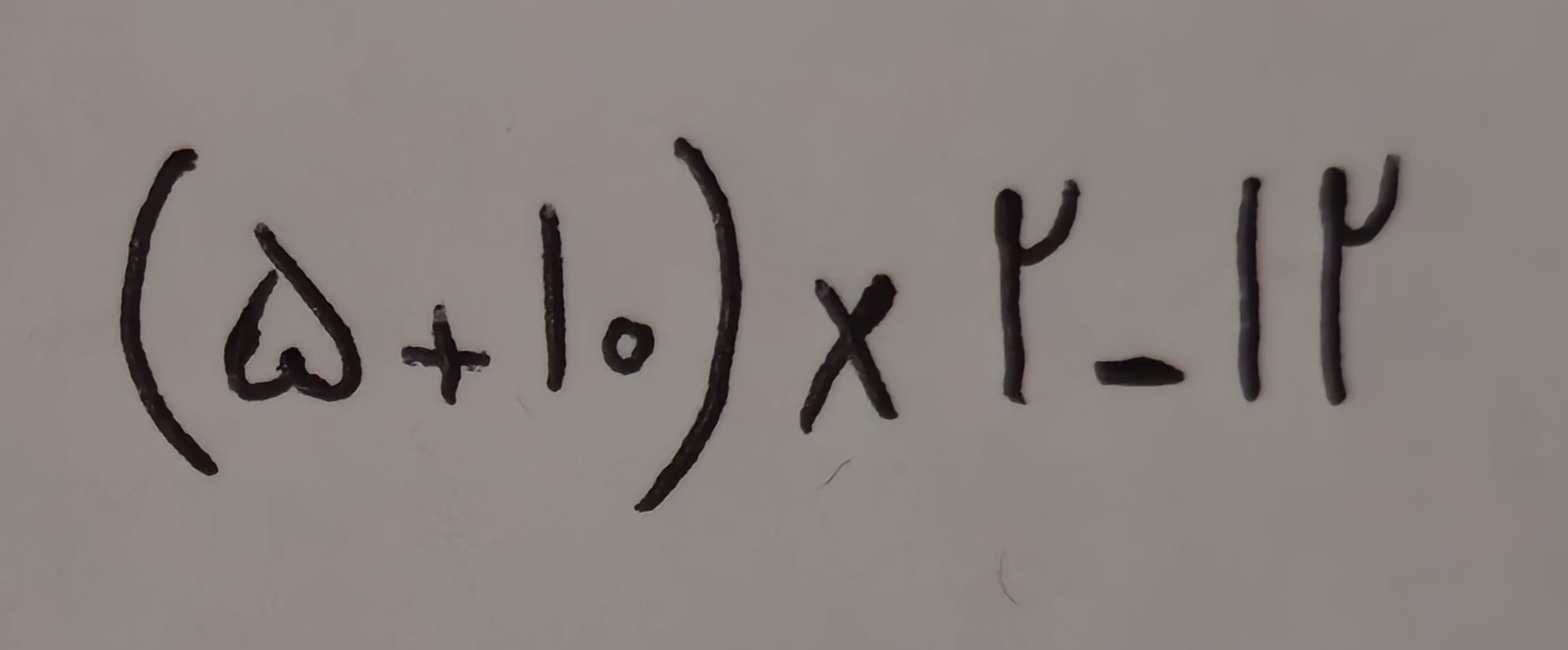character: (633, 136, 744, 514), (119, 147, 219, 479), (224, 223, 364, 403), (1318, 154, 1402, 407), (993, 179, 1081, 407), (797, 274, 898, 435), (402, 305, 491, 407), (1236, 176, 1263, 403), (538, 204, 568, 393), (601, 316, 657, 377), (1094, 356, 1186, 388)
